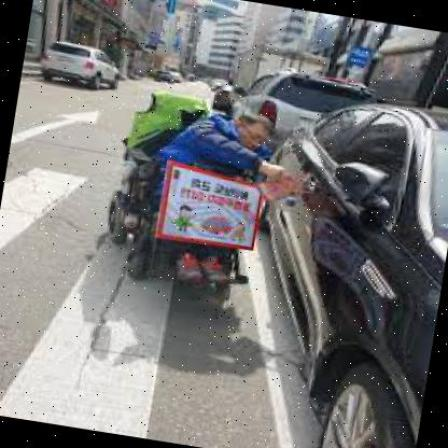wheel: (100, 88, 294, 300)
